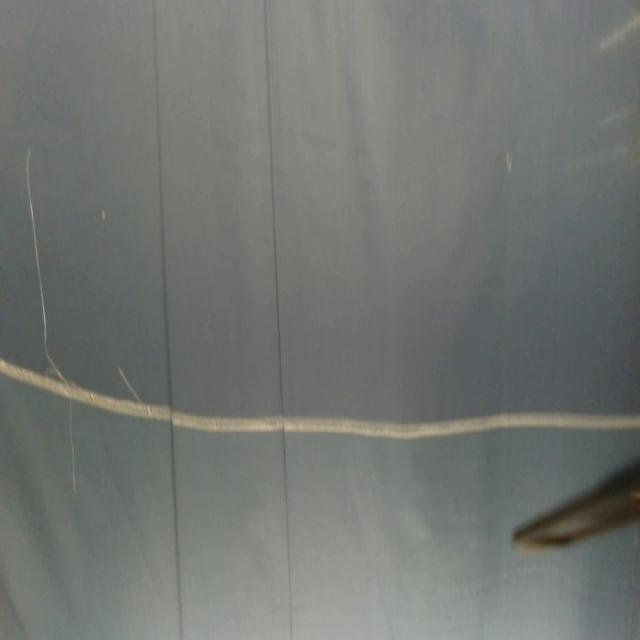crease: (149, 0, 184, 638), (262, 0, 295, 640)
hole: (506, 149, 514, 175), (100, 210, 107, 223)
